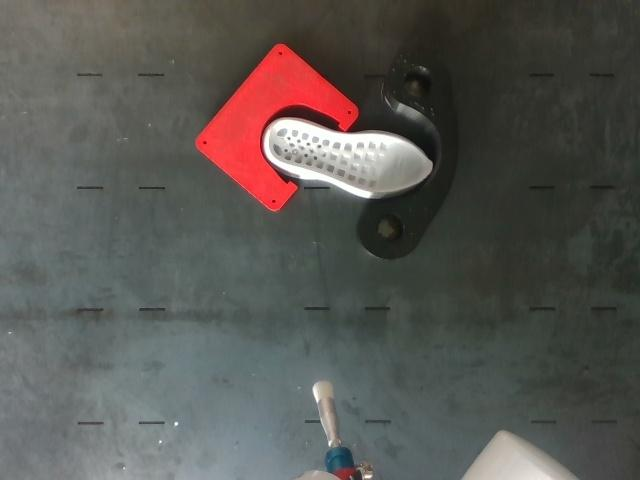shoes: (269, 120, 432, 192)
